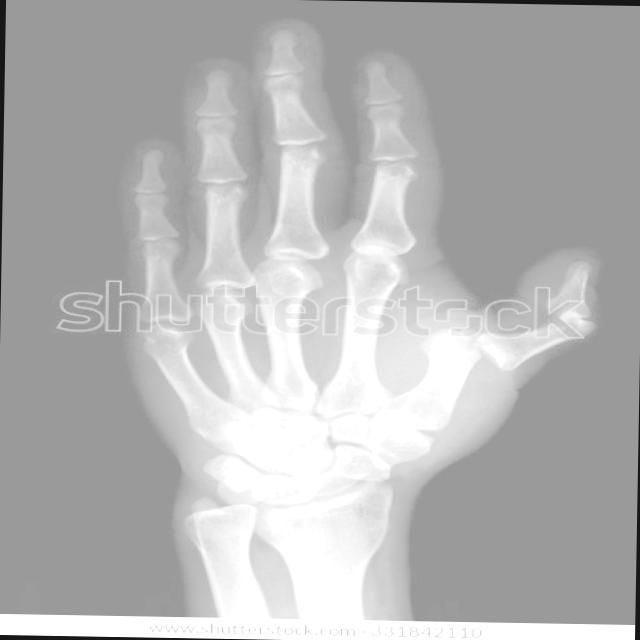Fracture Dislocation: (433, 302, 501, 386)
